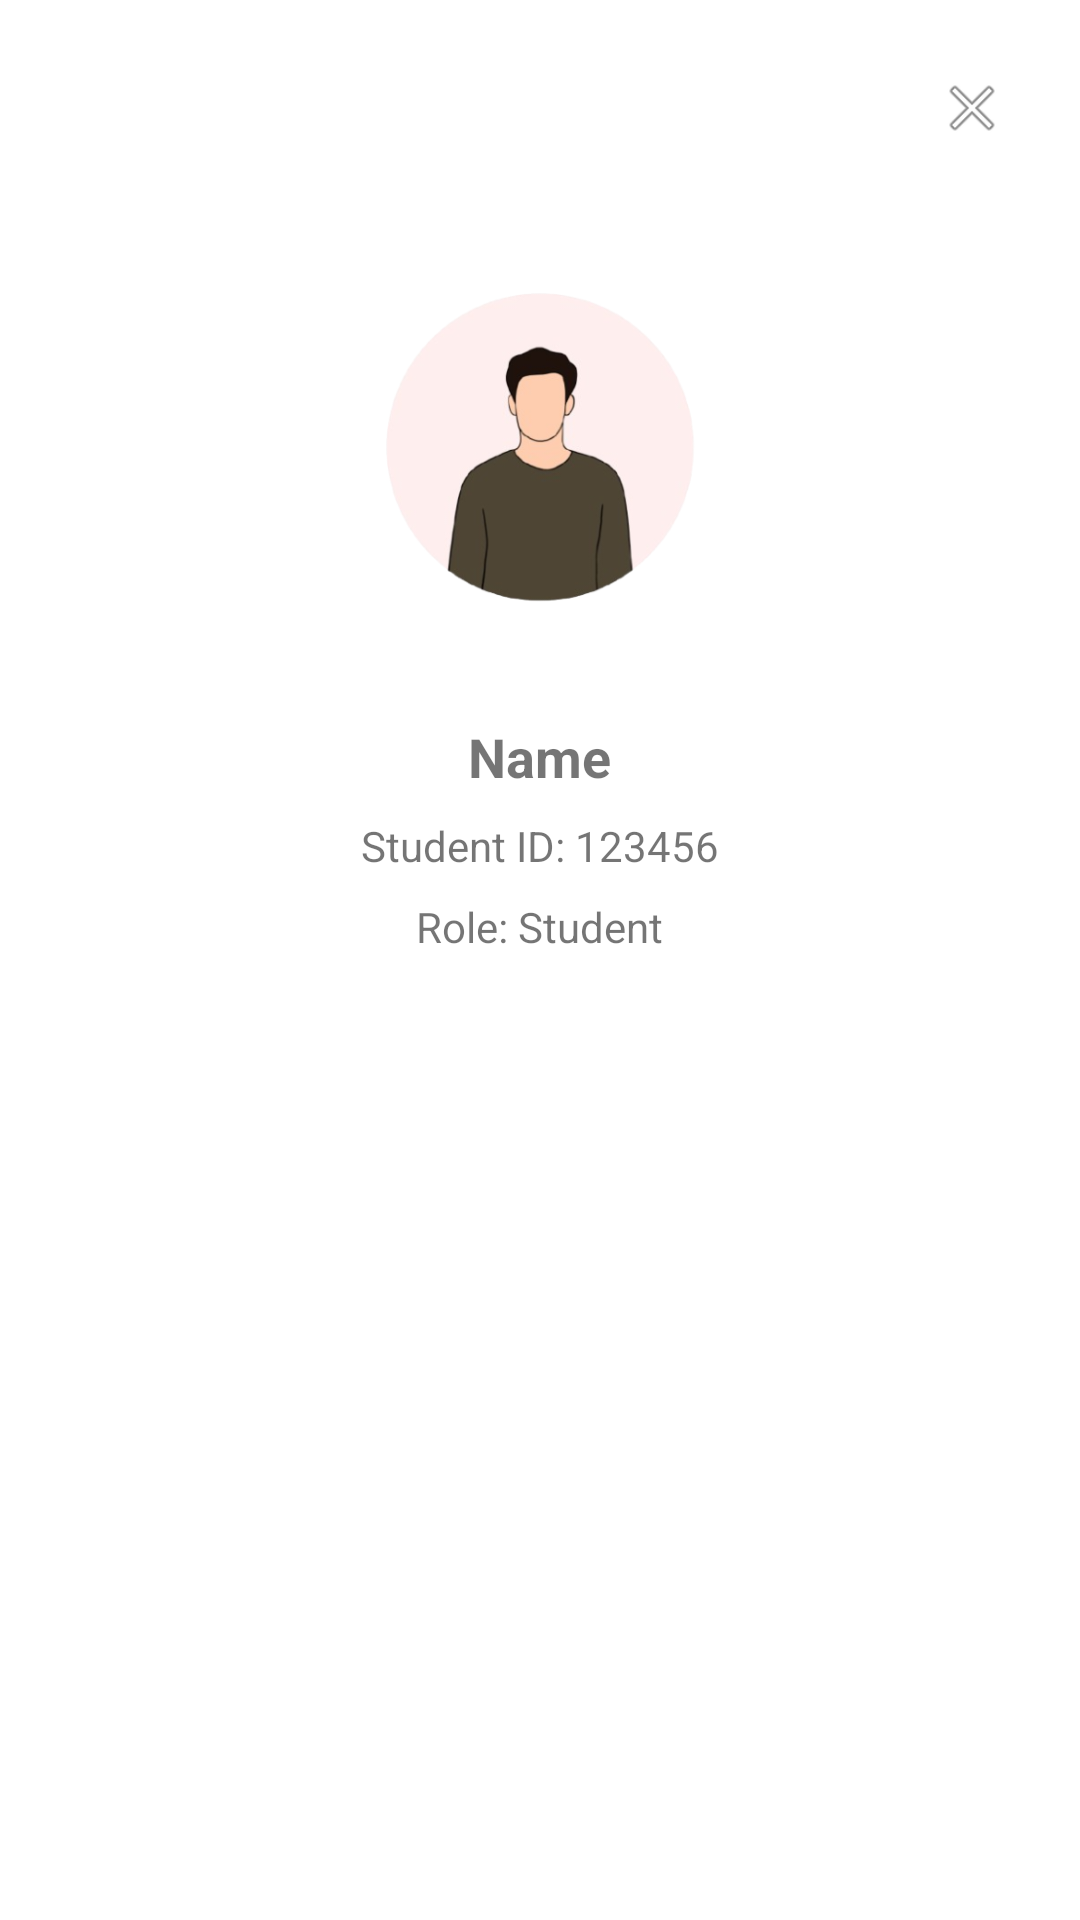

Where to tap for icons on this 1080 × 1920 app screen, as [x,y]:
Close: [972,108]
user: [540,473]
